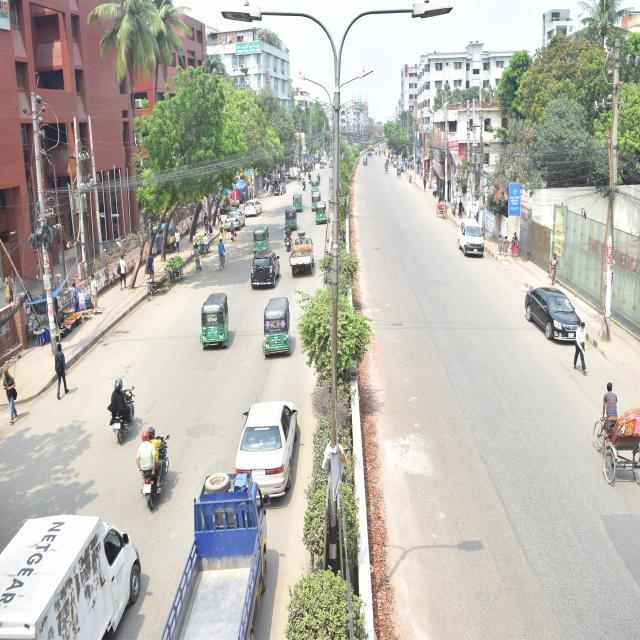car: (236, 397, 302, 500), (522, 280, 587, 344), (250, 251, 282, 292), (221, 209, 246, 230), (240, 200, 266, 217)
microbus: (456, 212, 488, 260)
motorbike: (140, 426, 169, 512), (108, 383, 137, 448)
pickup-van: (160, 473, 273, 640), (0, 514, 142, 640), (288, 232, 318, 274)
